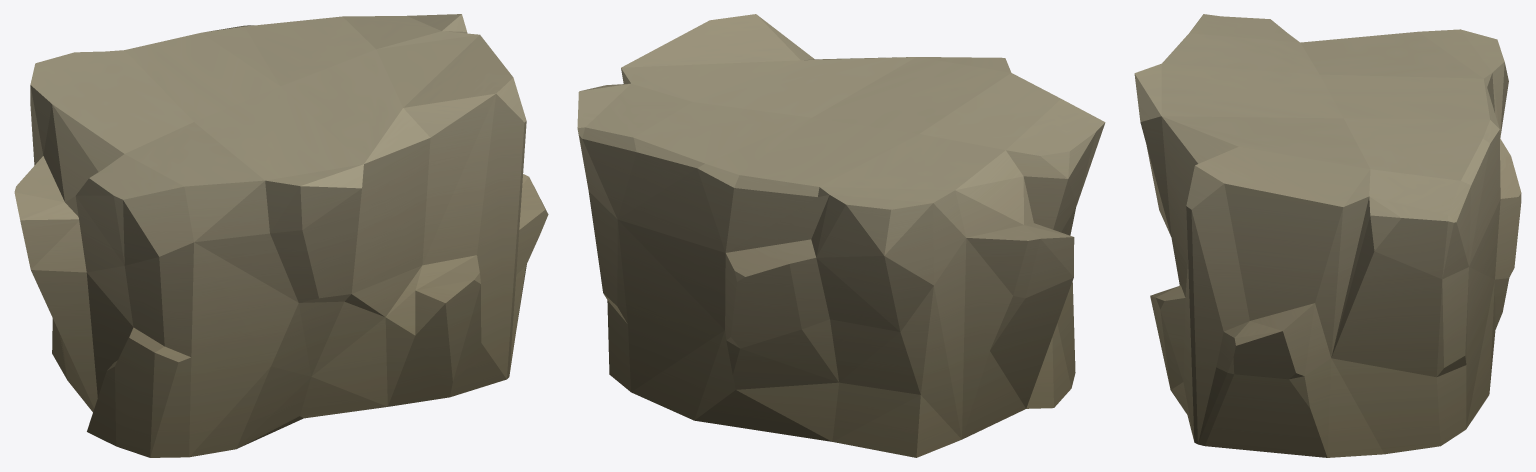
Rendered from Rock_Big_02.fbx.
The picture shows the model from 3 angles, left to right: view 1: azimuth 30°, elevation 25°; view 2: azimuth 150°, elevation 25°; view 3: azimuth 270°, elevation 25°; orthographic projection. The views are drawn at different scales.
Visible parts, largest first — view 1: Rock_Big_02; view 2: Rock_Big_02; view 3: Rock_Big_02.
Boxes of the visible parts, x1,y1,x2,y2 form: Rock_Big_02: (14, 14, 548, 457); Rock_Big_02: (577, 14, 1105, 457); Rock_Big_02: (1134, 14, 1521, 457).
Size of the model in its own units: 2887 by 1661 by 2119.
